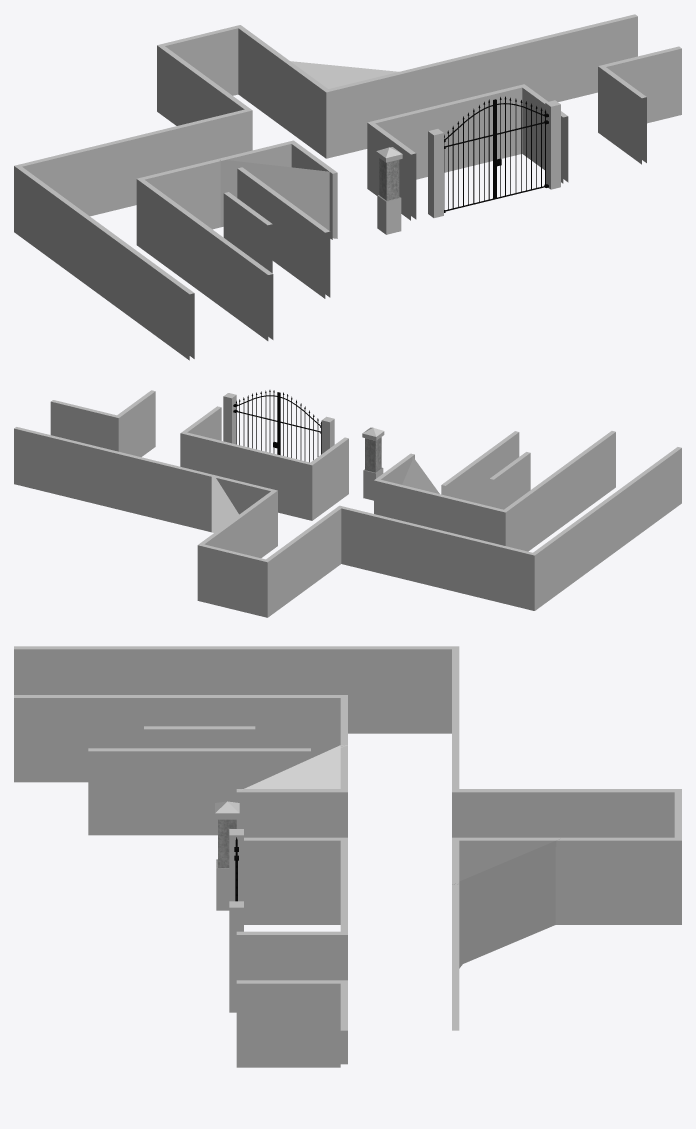
File: Muros.fbx
3 renders of one model, top to bottom at view 1: azimuth 30°, elevation 25°; view 2: azimuth 150°, elevation 25°; view 3: azimuth 270°, elevation 25°, orthographic. The views are drawn at different scales.
Parts seen in each view (by area): view 1: Bifurcacion, Encrucijada, Esquina, Pasillo, SinSalida, Pared-2, Pared, Columna, Puerta.003, Puerta.002, Puerta.001, Puerta; view 2: Bifurcacion, Encrucijada, Esquina, Pasillo, SinSalida, Pared-2, Pared, Columna, Puerta.002, Puerta.003, Puerta, Puerta.001; view 3: Encrucijada, Pasillo, Esquina, Bifurcacion, SinSalida, Pared-2, Pared, Columna, Puerta, Puerta.001.
Part boxes in pixels (box(x1,y1,x2,y2)): Bifurcacion: box(399, 14, 681, 183); Encrucijada: box(174, 59, 446, 239); Esquina: box(14, 127, 220, 295); Pasillo: box(101, 209, 273, 360); SinSalida: box(157, 25, 286, 126); Pared-2: box(237, 167, 330, 298); Pared: box(223, 192, 272, 272); Columna: box(376, 147, 402, 234); Puerta.003: box(444, 99, 495, 211); Puerta.002: box(495, 96, 546, 199); Puerta.001: box(428, 129, 445, 217); Puerta: box(544, 100, 560, 189); Bifurcacion: box(14, 390, 250, 532); Encrucijada: box(211, 437, 439, 588); Esquina: box(401, 484, 608, 610); Pasillo: box(538, 431, 681, 556); SinSalida: box(197, 516, 306, 617); Pared-2: box(441, 431, 519, 505); Pared: box(489, 452, 530, 509); Columna: box(362, 427, 384, 500); Puerta.002: box(236, 390, 278, 454); Puerta.003: box(278, 392, 321, 462); Puerta: box(223, 393, 237, 444); Puerta.001: box(320, 416, 334, 453); Encrucijada: box(236, 745, 563, 968); Pasillo: box(14, 646, 236, 782); Esquina: box(236, 646, 459, 758); Bifurcacion: box(236, 884, 459, 1067); SinSalida: box(563, 789, 681, 924); Pared-2: box(88, 748, 310, 835); Pared: box(144, 726, 255, 748); Columna: box(215, 801, 239, 910); Puerta: box(229, 901, 243, 1012); Puerta.001: box(229, 829, 243, 901).
Size of the model in its own units: 2450 by 388 by 1800.
